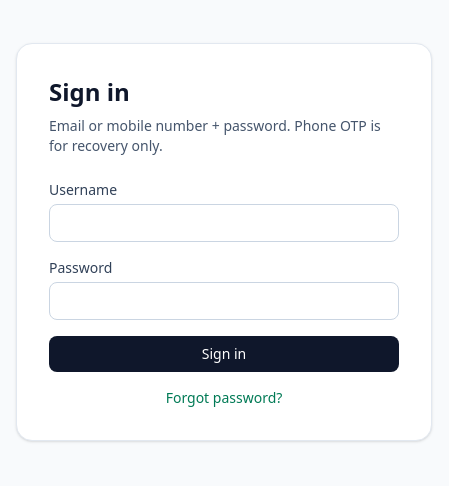
Scenario: LoginPage › shows server error when login fails
The image size is (449, 486).
Type "bad@school.dev" into the field labelled "Username" at (224, 223), box [49,204,399,242]
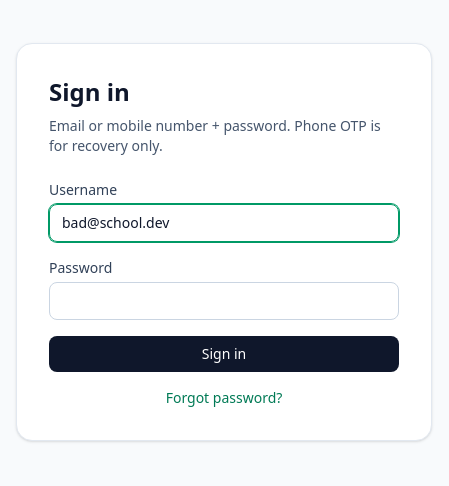
Type "wrong" into the password field labelled "Password" at (224, 301), box [49,282,399,320]
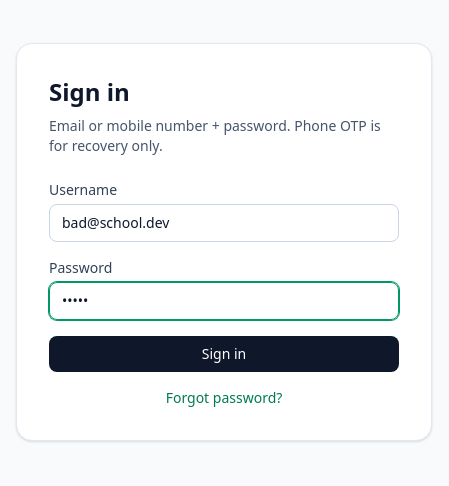
Click the button "Sign in" at (224, 354), box [49,336,399,372]
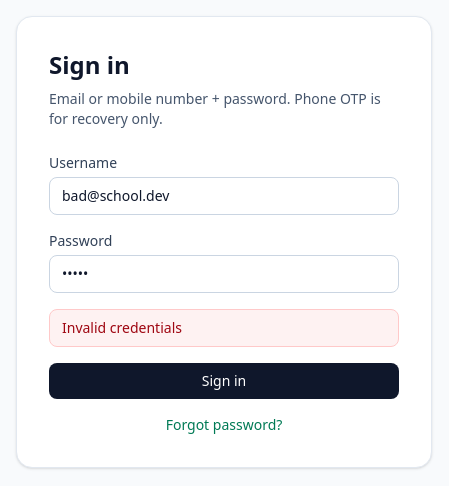
Result: the text "Invalid credentials" is shown at [49,309,399,347]
